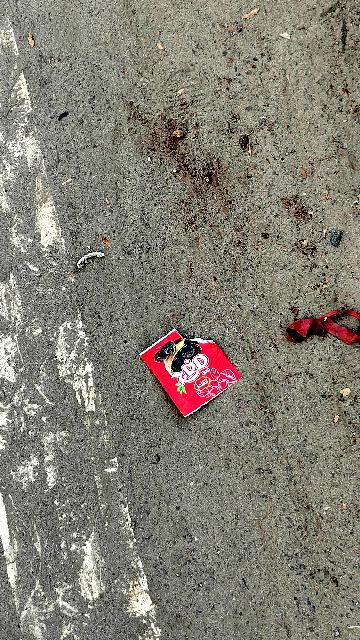packet: (132, 298, 253, 420)
